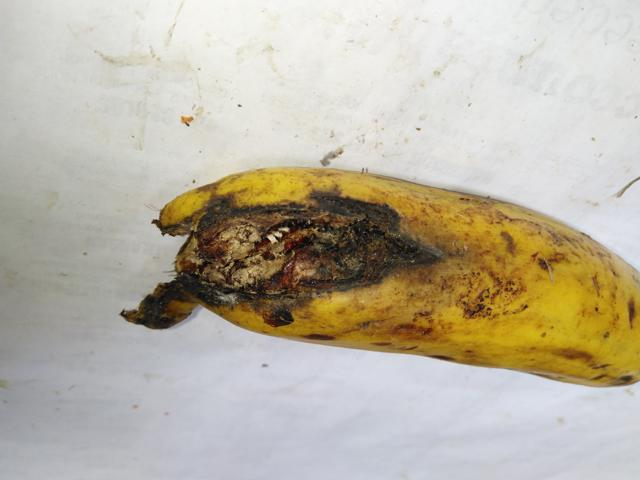rotten: (100, 148, 456, 361)
